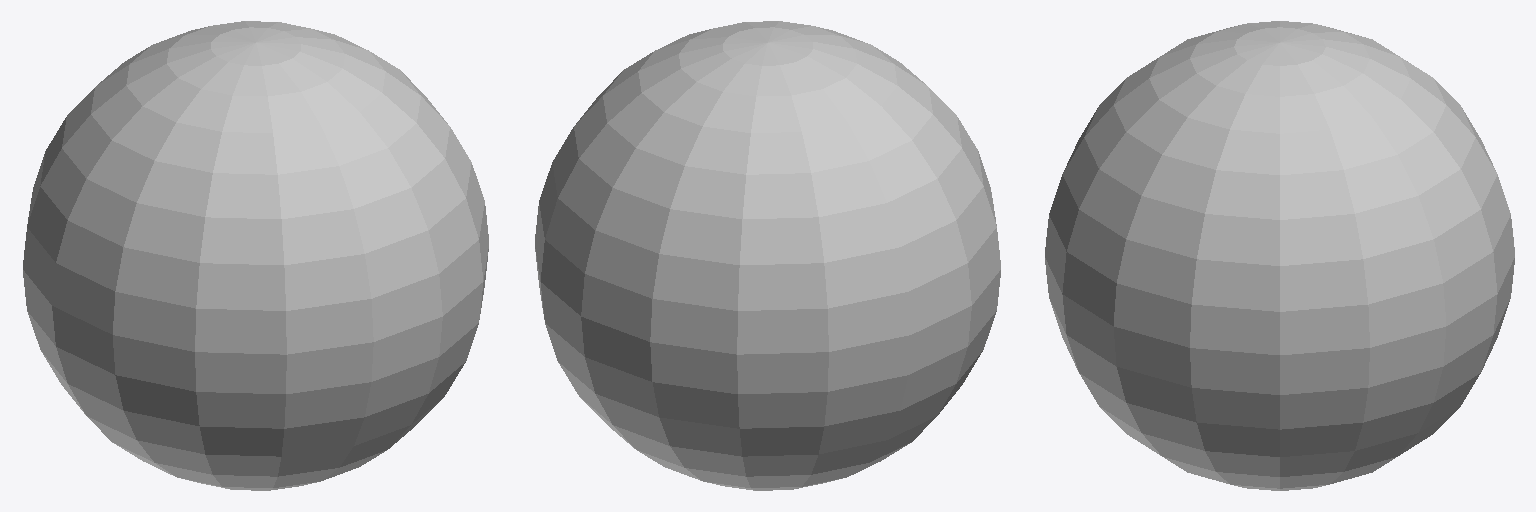
The model's file is earth.obj.
3 renders of one model, left to right at view 1: azimuth 30°, elevation 25°; view 2: azimuth 150°, elevation 25°; view 3: azimuth 270°, elevation 25°, orthographic.
Bounding box in the file's own units: 1.92 × 1.92 × 1.92.